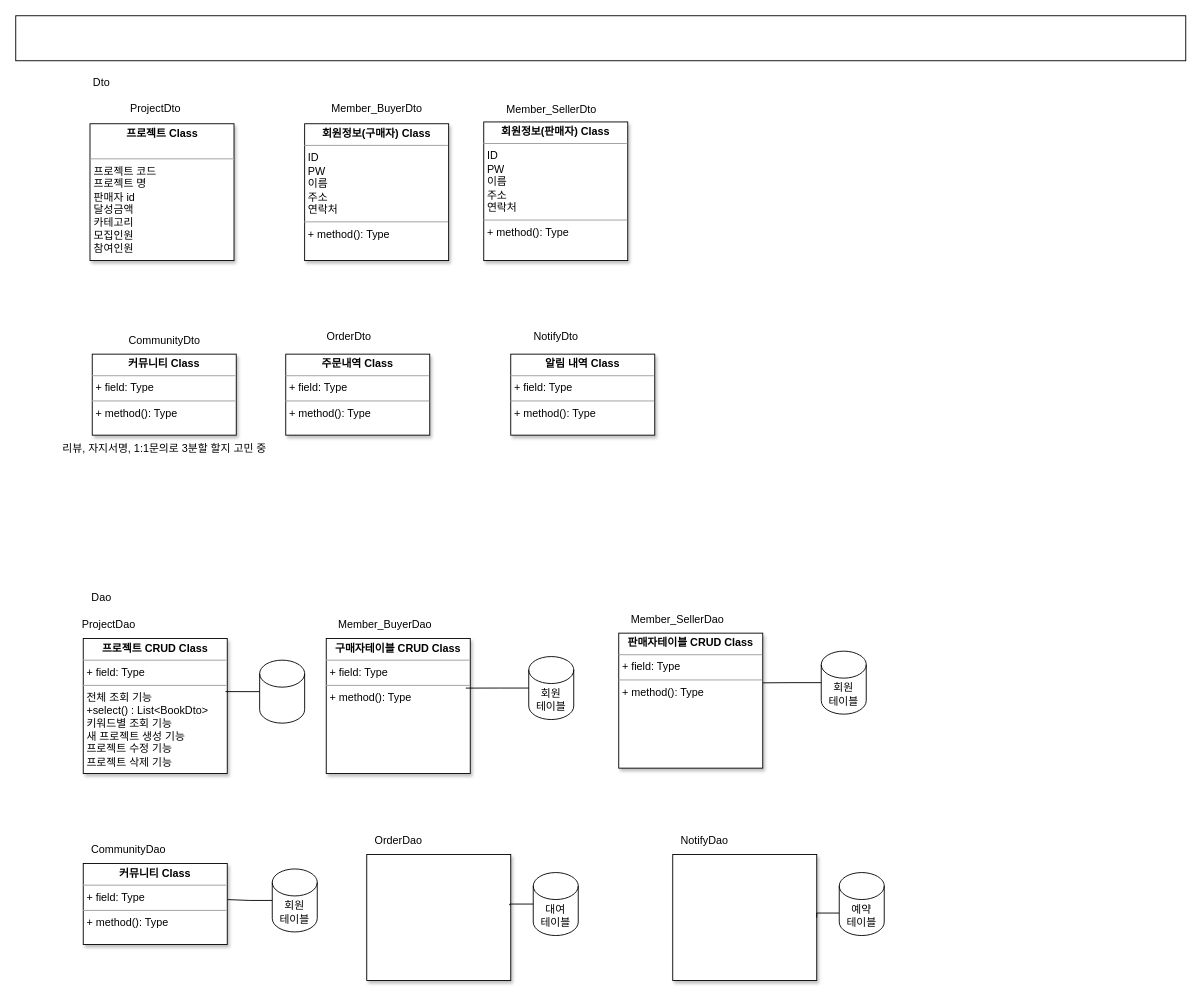
The diagram is 1202 pixels wide and 1003 high, and some of its shapes have lost their labels. Here are the shapes that lost their labels. From the top down, the centre of each, then its label:
(600,38): Persistence Layer(영속 계층) - DB 연결영역, 왠만해선 바뀌지 않는다
(282,691): 프로젝트 테이블
(439,918): 주문 CRUD Class + field: Type + method(): Type
(745,918): 알림 CRUD Class + field: Type + method(): Type
